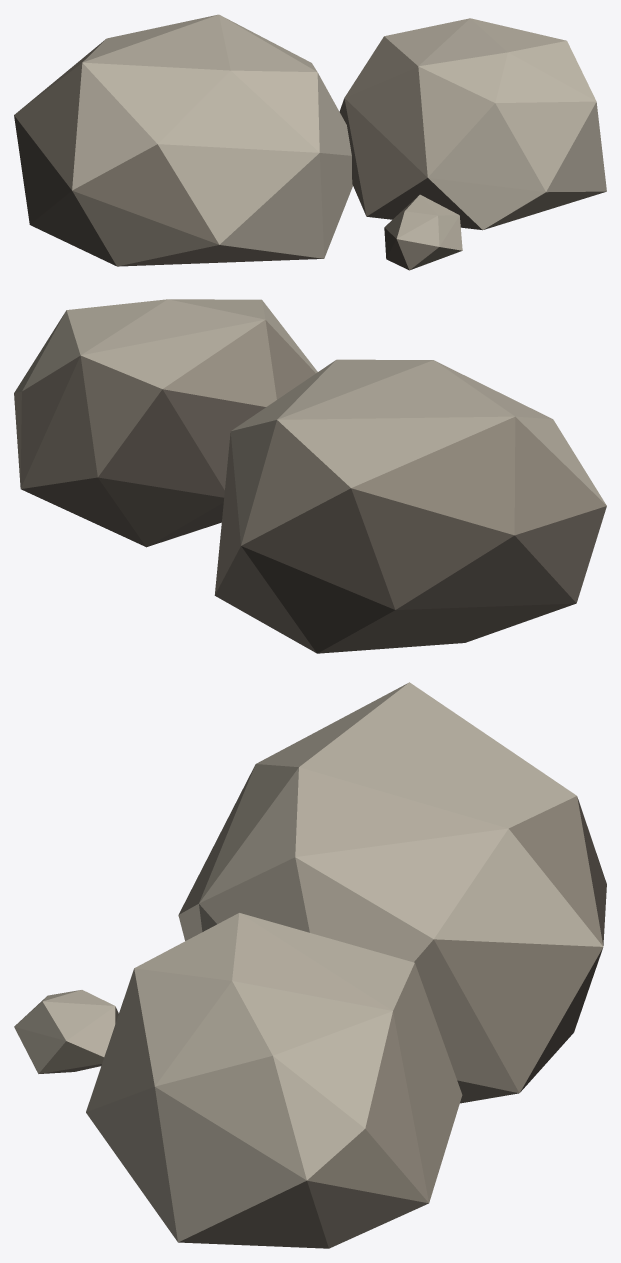
File: stone_bigDuo.glb
3 views of the same model, one above another, from view 1: azimuth 30°, elevation 25°; view 2: azimuth 150°, elevation 25°; view 3: azimuth 270°, elevation 25° (orthographic). The views are drawn at different scales.
Visible parts, largest first — view 1: stone_bigDuo.002; view 2: stone_bigDuo.002; view 3: stone_bigDuo.002.
Part boxes in pixels (left/top/right/bottom): stone_bigDuo.002: left=14, top=14, right=606, bottom=270; stone_bigDuo.002: left=14, top=299, right=606, bottom=653; stone_bigDuo.002: left=14, top=682, right=606, bottom=1248.
Bounding box in the file's own units: 0.9 × 0.3282 × 0.6212.
